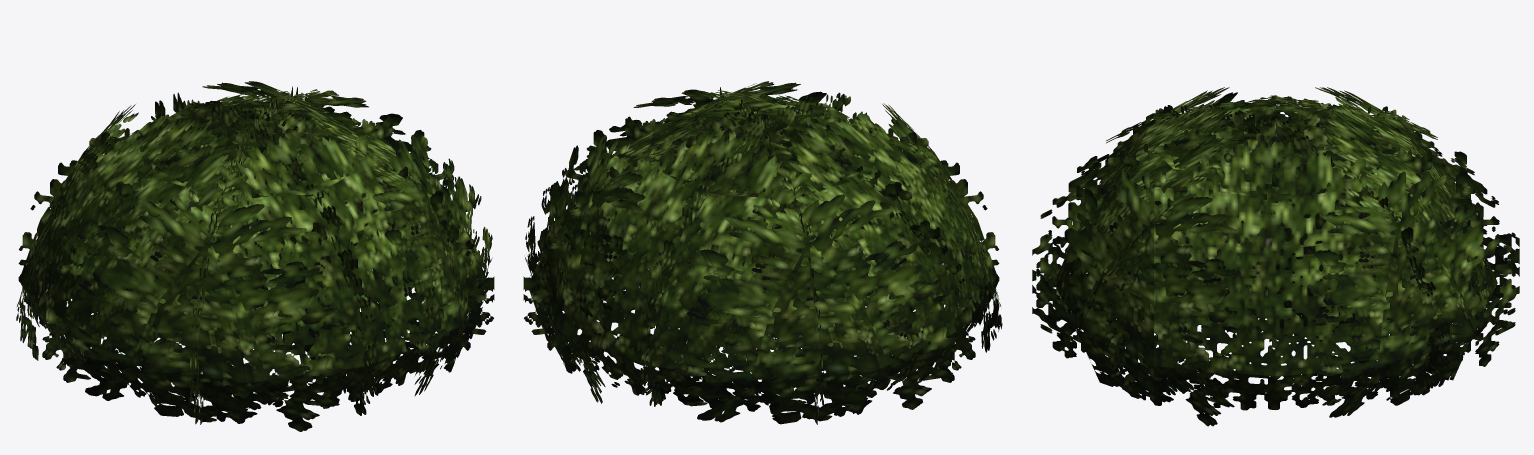
The model's file is low_sprawling_scrub.glb.
The picture shows the model from 3 angles, left to right: view 1: azimuth 30°, elevation 25°; view 2: azimuth 150°, elevation 25°; view 3: azimuth 270°, elevation 25°; orthographic projection.
Parts seen in each view (by area): view 1: bush6; view 2: bush6; view 3: bush6.
Boxes of the visible parts, bbox=[...] form: bush6: bbox=[16, 81, 494, 431]; bush6: bbox=[523, 81, 1002, 424]; bush6: bbox=[1032, 87, 1519, 426].
Bounding box in the file's own units: 2 × 1 × 2.
1 material, 1 textured.
